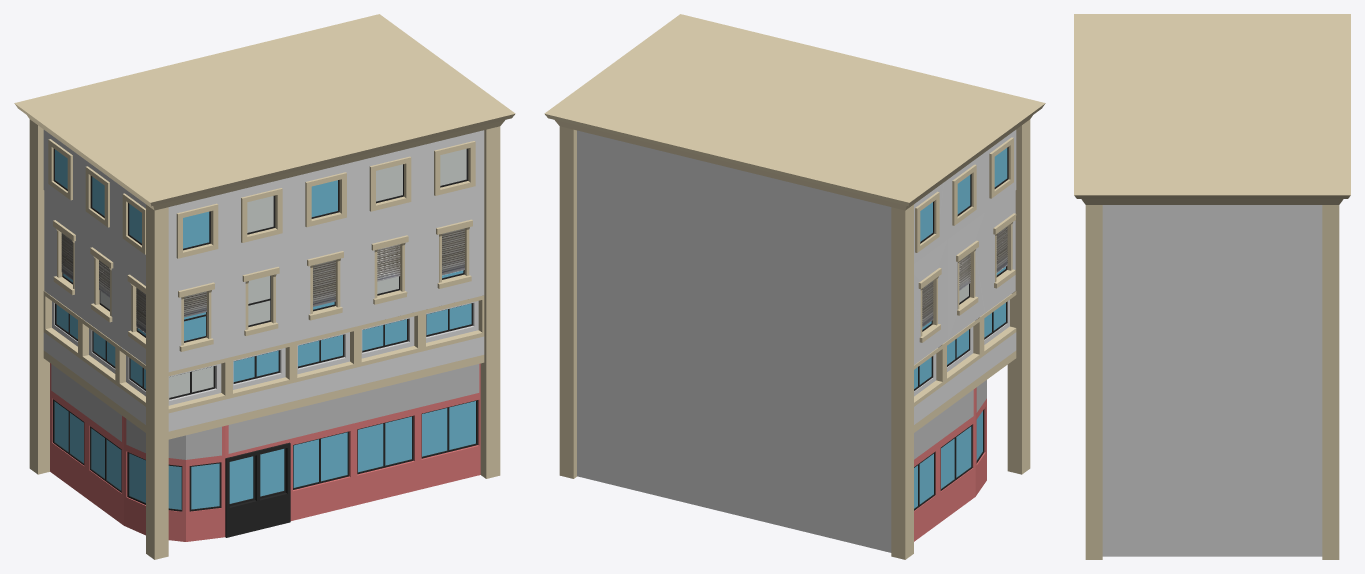
Rendered from Bloc_09A.fbx.
3 views of the same model, side by side, from view 1: azimuth 30°, elevation 25°; view 2: azimuth 150°, elevation 25°; view 3: azimuth 270°, elevation 25° (orthographic).
Parts seen in each view (by area): view 1: Bloc_09A; view 2: Bloc_09A; view 3: Bloc_09A.
Boxes of the visible parts, left/top/right/bottom form: Bloc_09A: left=14, top=14, right=515, bottom=559; Bloc_09A: left=544, top=14, right=1045, bottom=559; Bloc_09A: left=1074, top=14, right=1350, bottom=559.
Bounding box in the file's own units: 726 × 1070 × 1125.
